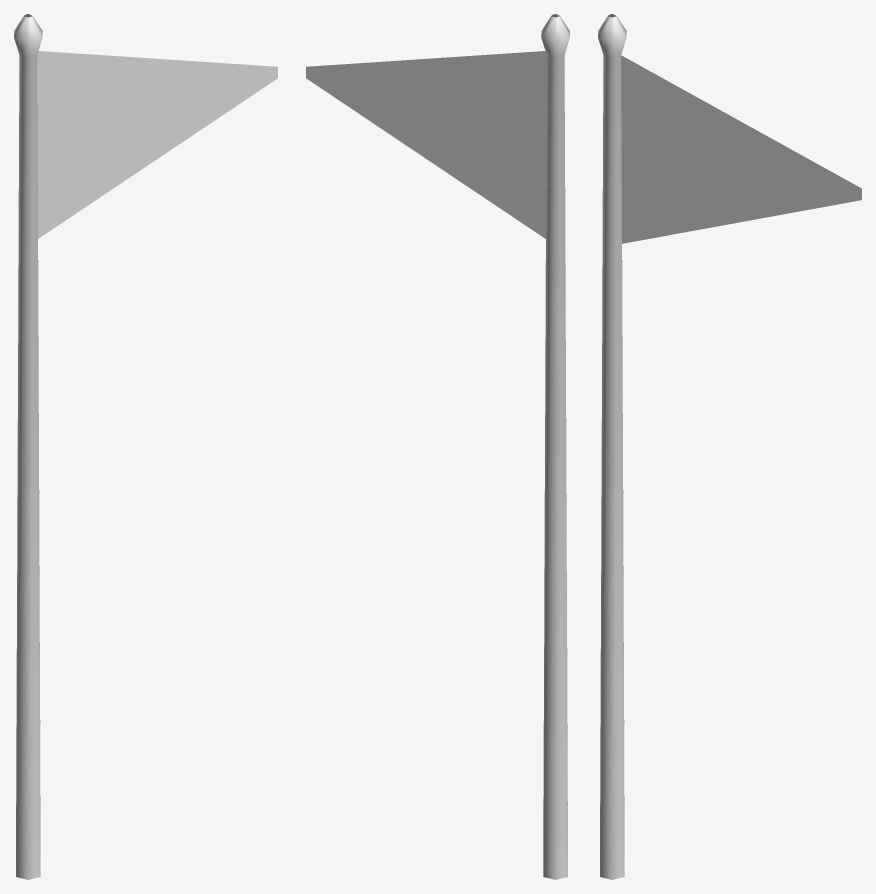
Rendered from flag.glb.
3 renders of one model, left to right at view 1: azimuth 30°, elevation 25°; view 2: azimuth 150°, elevation 25°; view 3: azimuth 330°, elevation 25°, orthographic.
Parts seen in each view (by area): view 1: Flag; view 2: Flag; view 3: Flag.
Boxes of the visible parts, box(x1,y1,x2,y2) form: Flag: box(14, 14, 277, 879); Flag: box(306, 14, 569, 879); Flag: box(598, 14, 861, 879).
Size of the model in its own units: 1.48 by 4.6 by 0.1386.
1 material, 1 textured.
